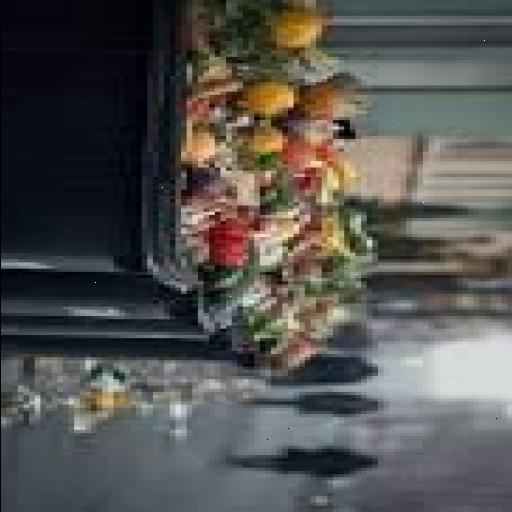poubelle_pleine: (2, 3, 416, 381)
